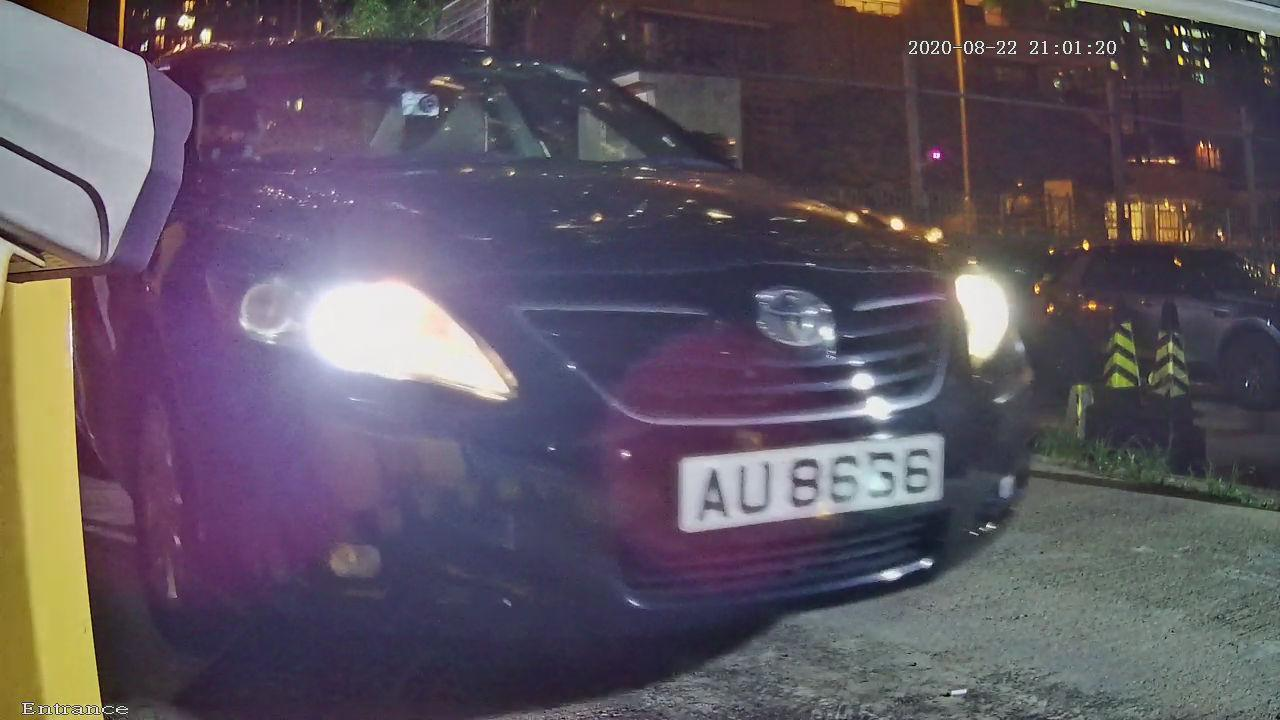Car: (35, 13, 1103, 698)
License Plate: (627, 402, 1008, 583)
